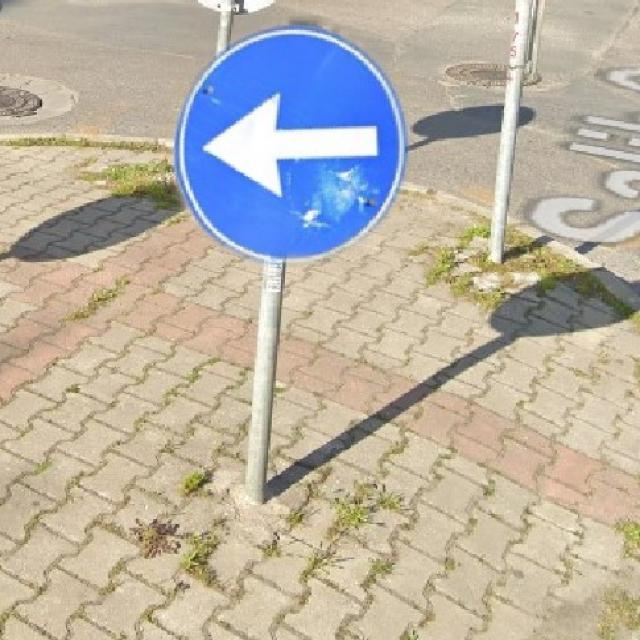Turn Left: (183, 28, 402, 274)
